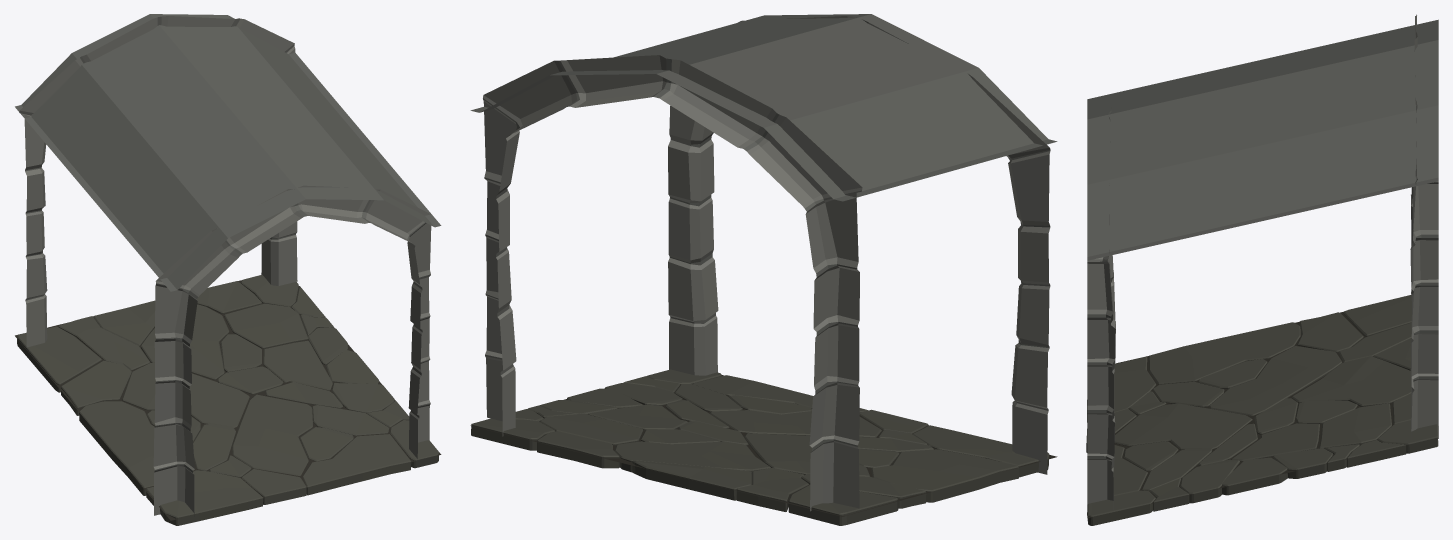
File: Dungeon_Straight_14°.glb
The picture shows the model from 3 angles, left to right: view 1: azimuth 30°, elevation 25°; view 2: azimuth 150°, elevation 25°; view 3: azimuth 270°, elevation 25°; orthographic projection. The views are drawn at different scales.
Visible parts, largest first — view 1: Dungeon_Straight_14°.001; view 2: Dungeon_Straight_14°.001; view 3: Dungeon_Straight_14°.001.
Boxes of the visible parts, <box> form: Dungeon_Straight_14°.001: <box>15,14,441,525</box>; Dungeon_Straight_14°.001: <box>470,14,1057,525</box>; Dungeon_Straight_14°.001: <box>1086,14,1438,525</box>.
Size of the model in its own units: 4.07 by 5.25 by 4.01.
Materials: 2 (2 with a texture image).
